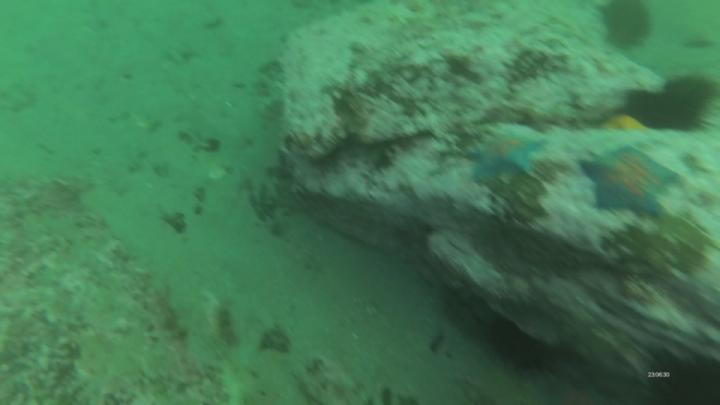echinus: (631, 83, 718, 135), (601, 2, 657, 51)
starfish: (578, 140, 682, 219), (460, 126, 551, 186)
